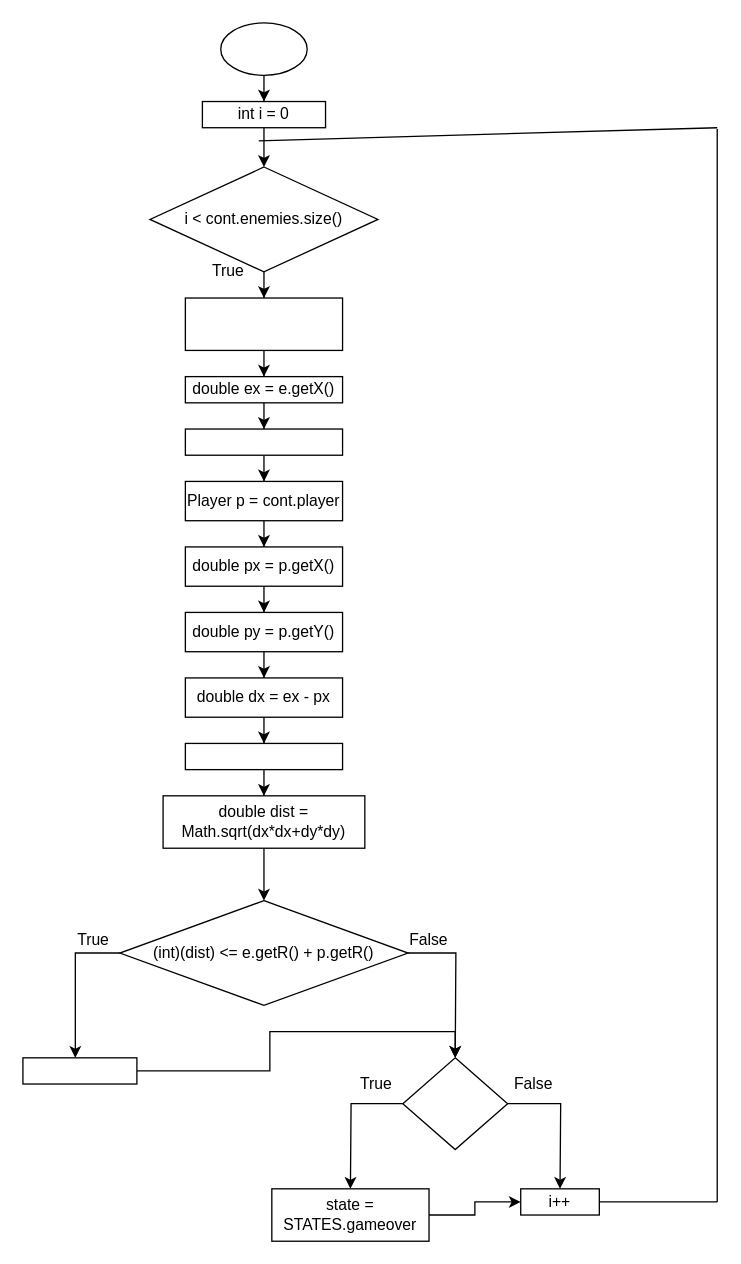
This 741x1264 diagram has some shape labels left out. Here are the shapes that lost their labels. From the top down, the centre of each, then its label:
At point 263,48: "For".
At point 263,323: "Enemy e = cont.enemies.get(i)".
At point 263,441: "double ey = e.getY()".
At point 263,756: "double dy = ey - py".
At point 79,1070: "p.damage()".
At point 455,1103: "p.HP == 0".
